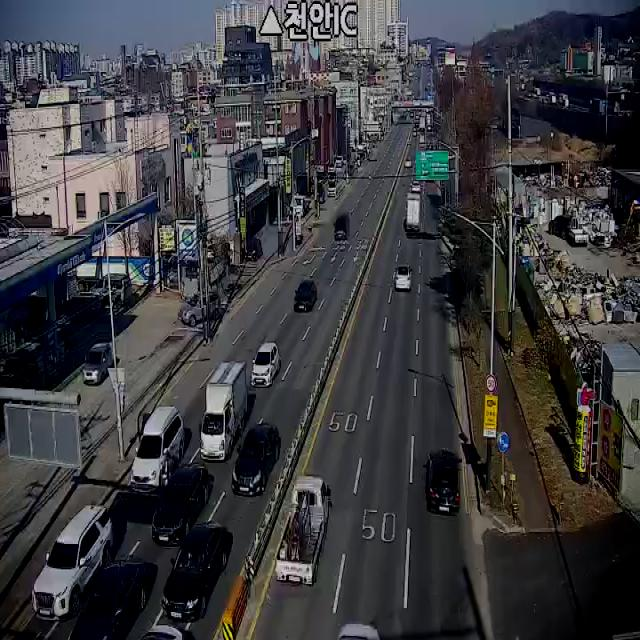Car: (32, 505, 114, 622), (67, 556, 150, 640), (162, 518, 228, 623), (130, 406, 184, 496), (152, 463, 208, 546), (231, 424, 280, 497), (425, 450, 463, 517), (178, 292, 221, 326), (250, 342, 280, 388), (82, 342, 114, 385), (96, 271, 133, 306), (137, 622, 181, 640), (337, 622, 380, 640), (294, 280, 316, 312), (395, 265, 413, 292), (245, 236, 263, 260), (327, 180, 337, 197), (412, 181, 421, 193)
Truck: (276, 473, 330, 586), (200, 361, 247, 461), (406, 193, 421, 233)
